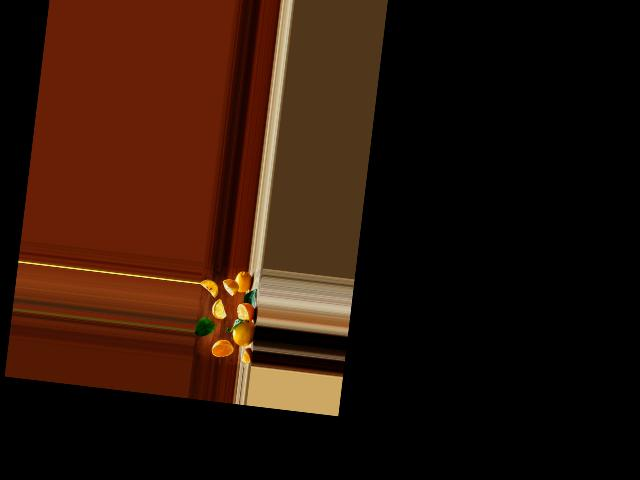lemon: (231, 267, 253, 294)
